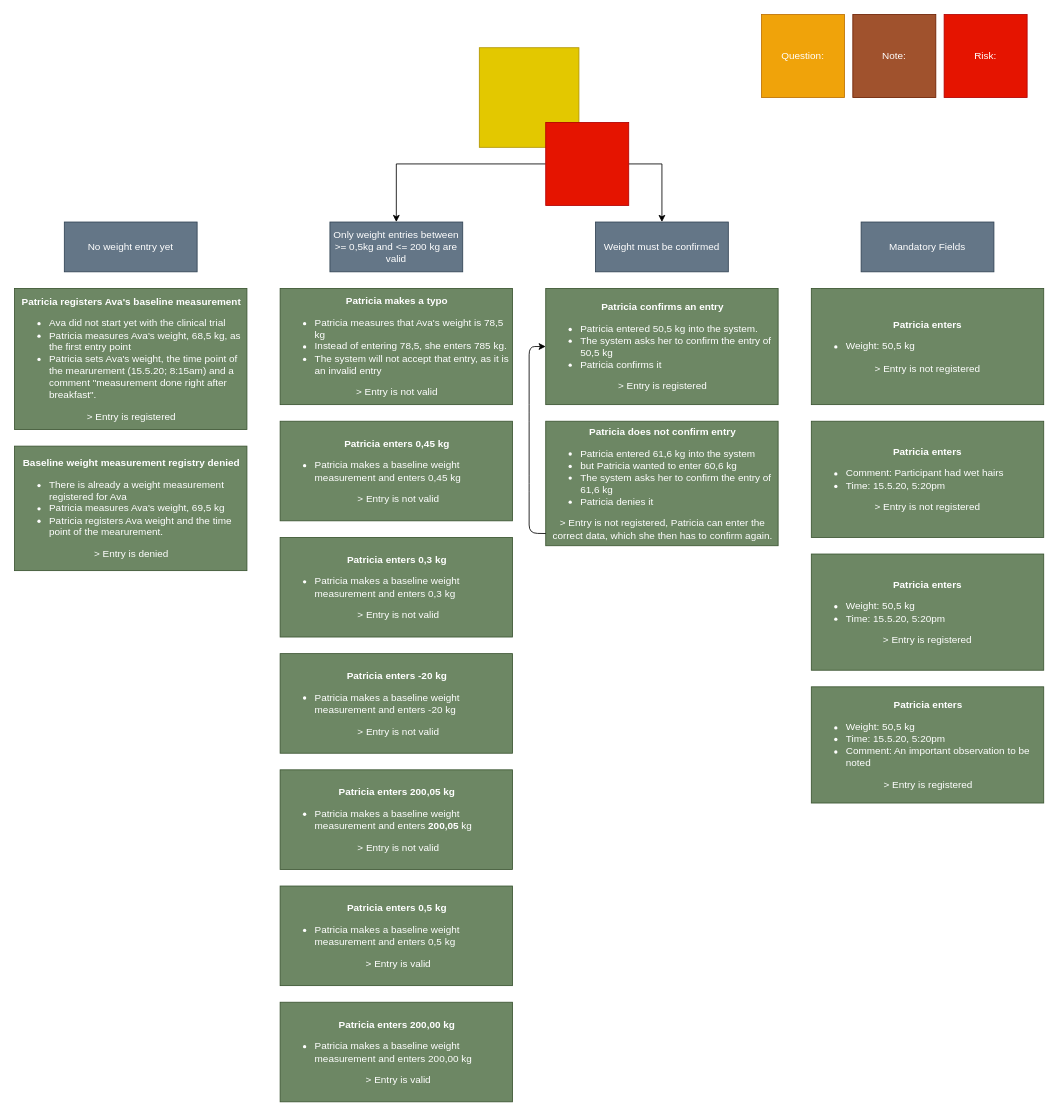
This 1058x1116 diagram has some shape labels left out. Each missing label, with the centre of its shape:
"Baseline Weight Measurement" belongs at (x=528, y=97).
"Risk: Patricia enters the wrong weight" belongs at (x=587, y=163).
